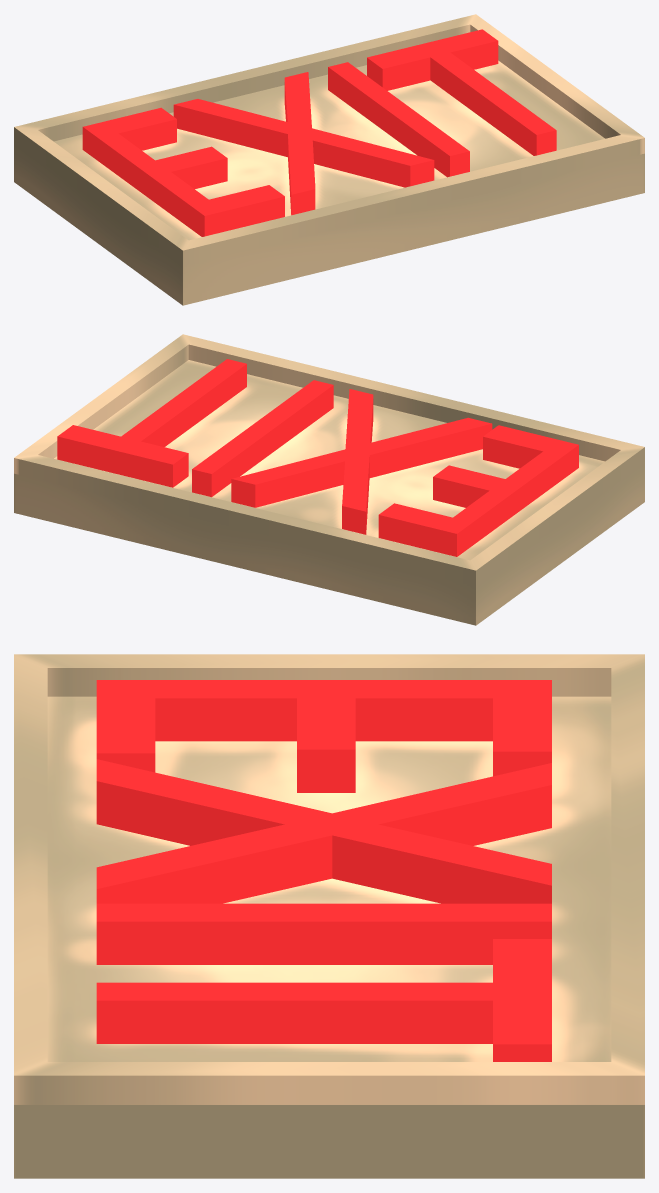
Rendered from ExitSign.glb.
3 views of the same model, one above another, from view 1: azimuth 30°, elevation 25°; view 2: azimuth 150°, elevation 25°; view 3: azimuth 270°, elevation 25° (orthographic). The views are drawn at different scales.
Parts seen in each view (by area): view 1: Cube, Text; view 2: Cube, Text; view 3: Cube, Text.
Part boxes in pixels (left/top/right/bottom): Cube: left=14, top=14, right=644, bottom=305; Text: left=82, top=29, right=556, bottom=236; Cube: left=14, top=334, right=644, bottom=625; Text: left=57, top=359, right=578, bottom=556; Cube: left=14, top=654, right=644, bottom=1178; Text: left=96, top=680, right=551, bottom=1061.
Size of the model in its own units: 1.49 by 0.1939 by 0.9452.
